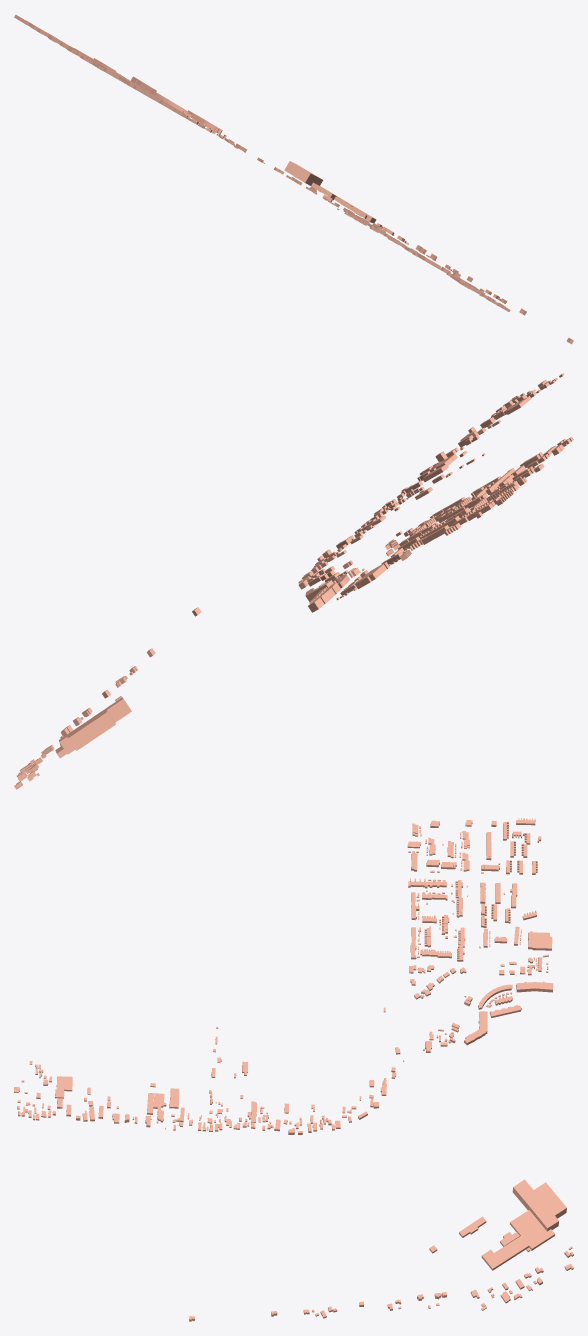
3 views of the same model, one above another, from view 1: azimuth 30°, elevation 25°; view 2: azimuth 150°, elevation 25°; view 3: azimuth 270°, elevation 25° (orthographic). The views are drawn at different scales.
Bounding box in the file's own units: 1021 × 756 × 1232.
